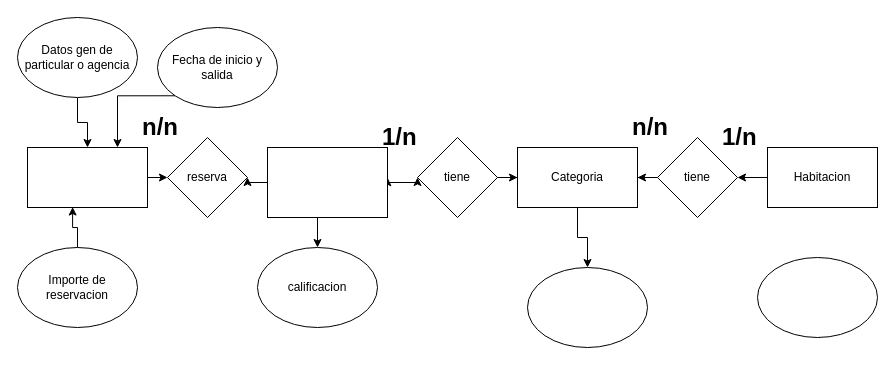
Image size: 895x365. Some labels were removed from this diagram. The box of each missing label's shape, as (x1, y1, x2, y2) in pixels:
Hotel: (266, 146, 388, 218)
monto de tarifa , de pende por habitacion: (756, 256, 878, 338)
Reservacion: (26, 146, 148, 208)
Tipo de habitacion con su tarifa: (526, 266, 648, 348)
